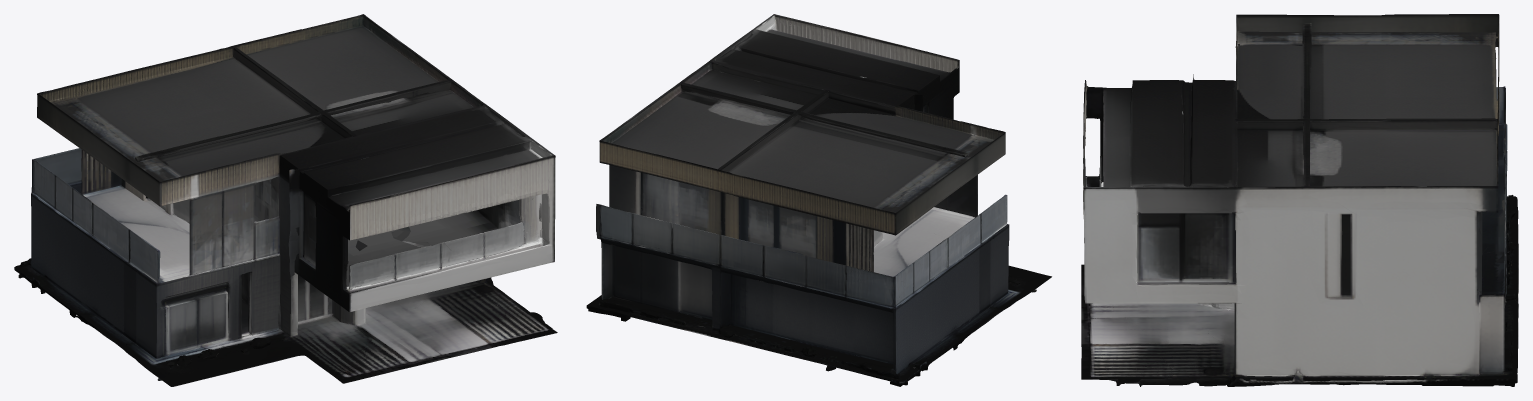
The model's file is domek2_trellis.glb.
The picture shows the model from 3 angles, left to right: view 1: azimuth 30°, elevation 25°; view 2: azimuth 150°, elevation 25°; view 3: azimuth 270°, elevation 25°; orthographic projection. The views are drawn at different scales.
Parts seen in each view (by area): view 1: world; view 2: world; view 3: world.
Part boxes in pixels (bbox=[...]): world: bbox=[14, 14, 557, 386]; world: bbox=[586, 14, 1051, 386]; world: bbox=[1081, 14, 1518, 386].
Bounding box in the file's own units: 0.9981 × 0.4988 × 0.9925.
Materials: 1 (1 with a texture image).
